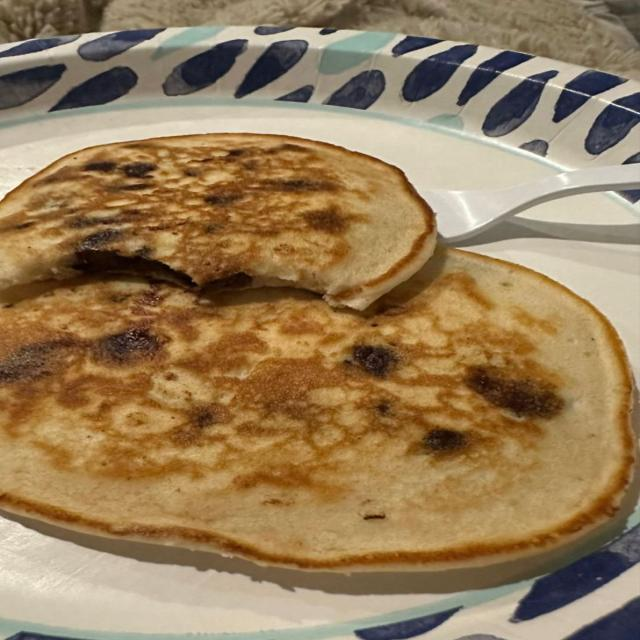pancake: (0, 250, 632, 571), (0, 134, 436, 308)
